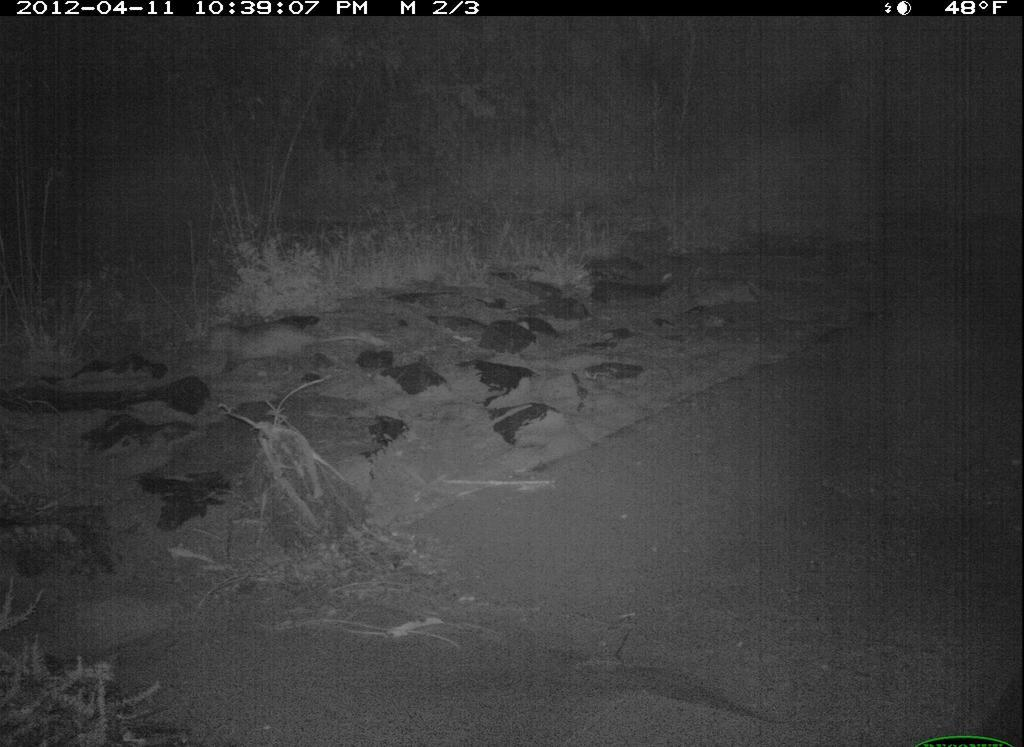opossum: (189, 303, 370, 395)
